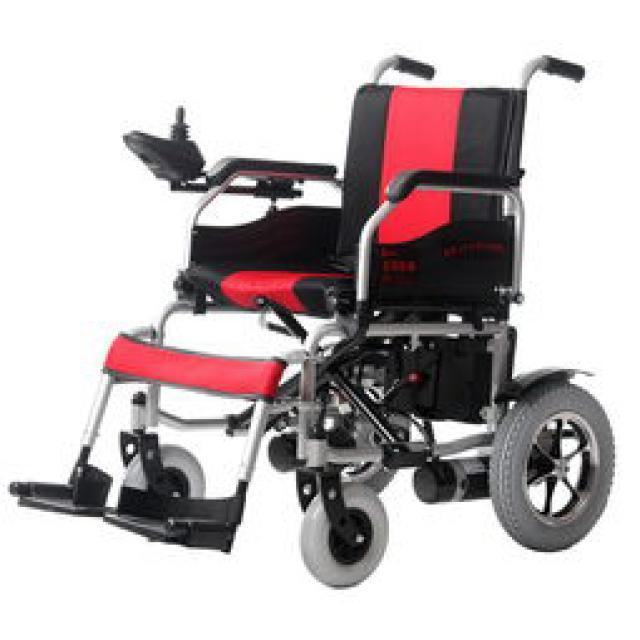wheelchairs: (6, 51, 616, 588)
